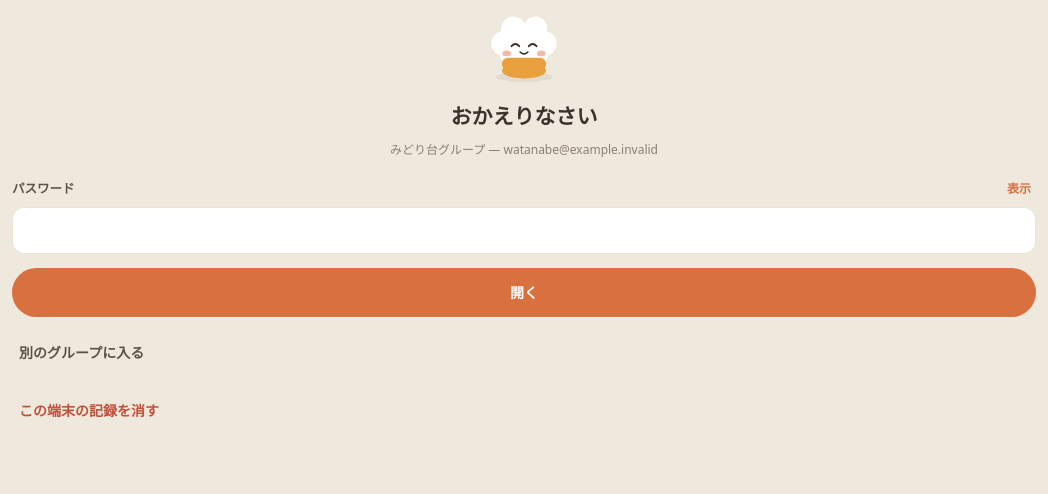
Test: UnlockPage › shows why the password was refused
The image size is (1048, 494).
Type "wrong" into the password field with test id "password" at (524, 230), box 12,207 -> 1036,254
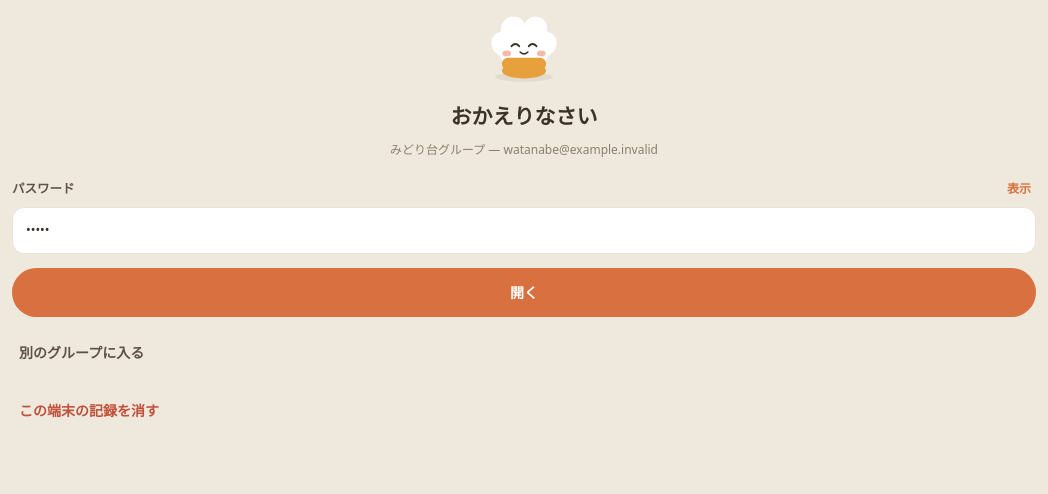
Click the button with test id "unlock" at (524, 292), box 12,268 -> 1036,317
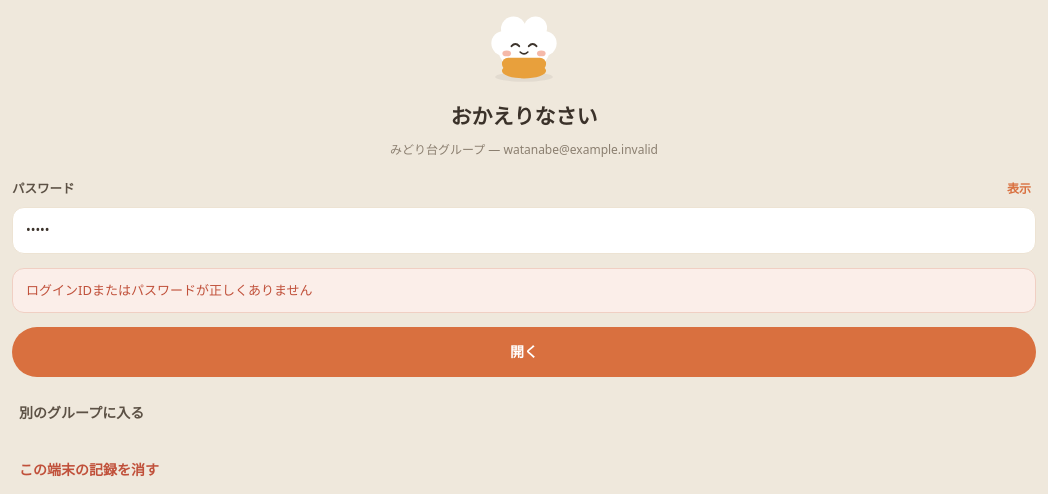
Now the message with test id "error" shows "パスワード", box 26,281 -> 312,299
